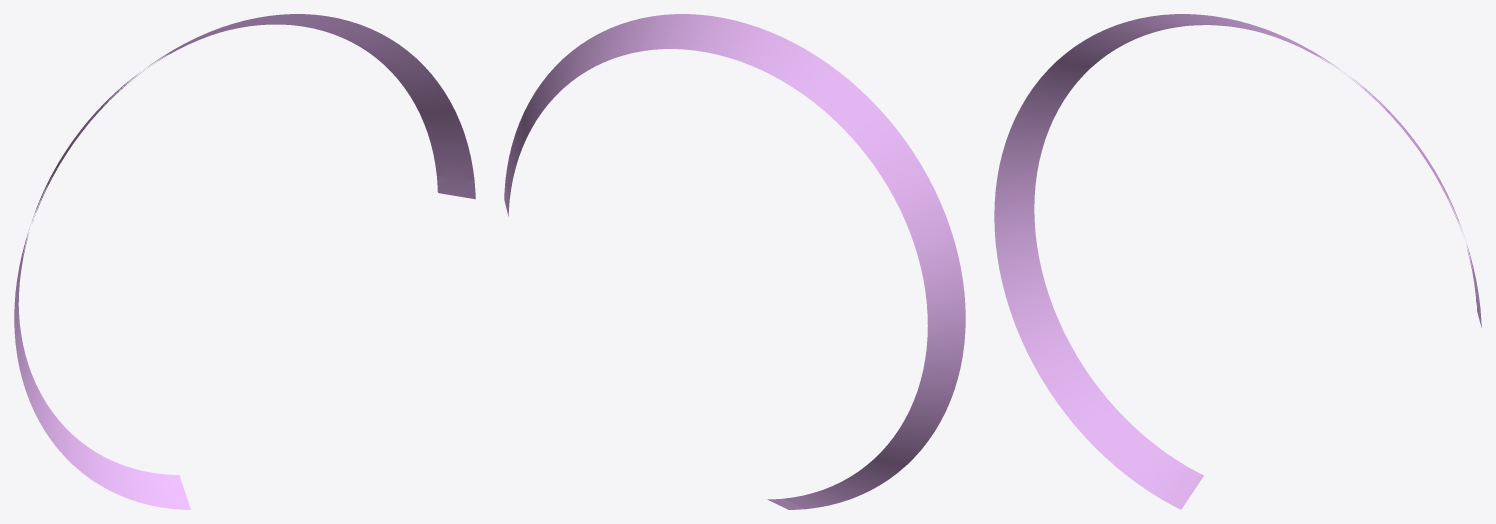
File: Mesh_Note_43.fbx
The picture shows the model from 3 angles, left to right: view 1: azimuth 30°, elevation 25°; view 2: azimuth 150°, elevation 25°; view 3: azimuth 330°, elevation 25°; orthographic projection. The views are drawn at different scales.
Visible parts, largest first — view 1: Mesh_Note_43; view 2: Mesh_Note_43; view 3: Mesh_Note_43.
Boxes of the visible parts, x1,y1,x2,y2 form: Mesh_Note_43: (14, 14, 475, 509); Mesh_Note_43: (504, 14, 965, 509); Mesh_Note_43: (994, 14, 1481, 509).
Size of the model in its own units: 3.56 by 3.51 by 0.2235.
